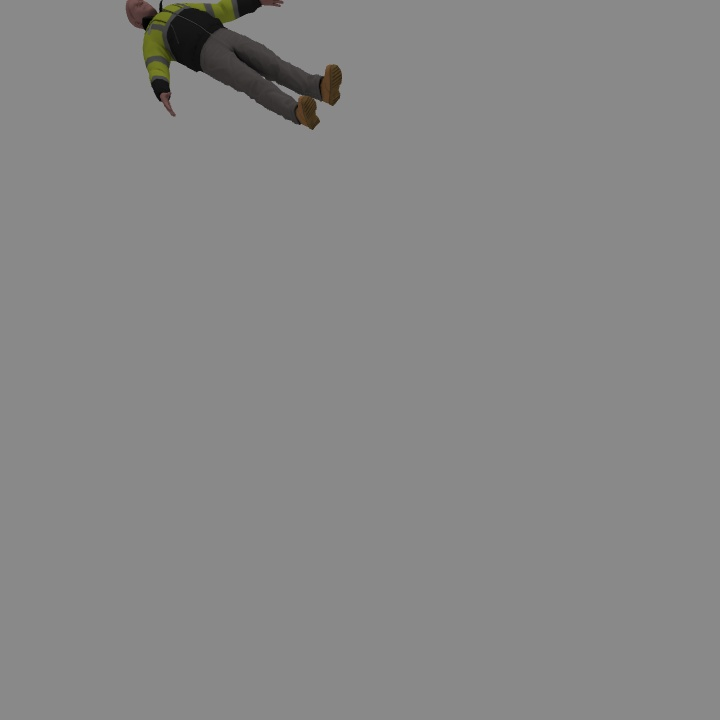victim: (123, 1, 340, 126)
